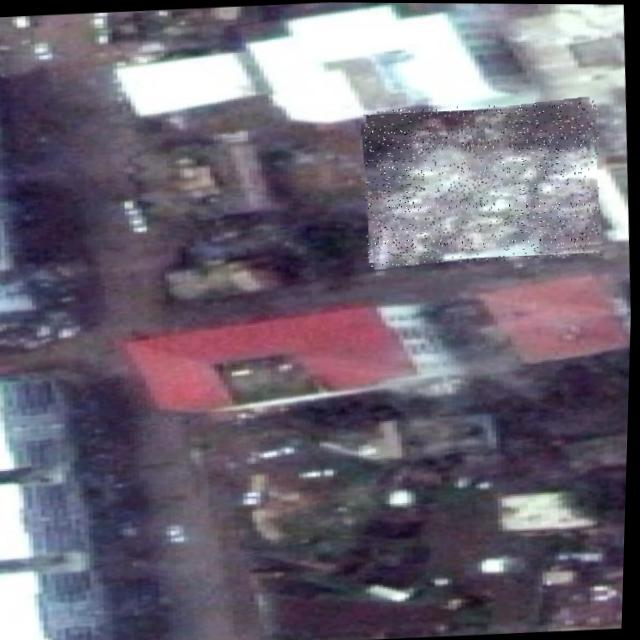Rubble: (361, 97, 607, 267)
